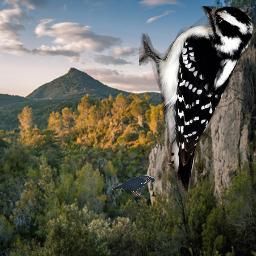Crow: (111, 175, 155, 198)
Woodpecker: (139, 6, 254, 198)
